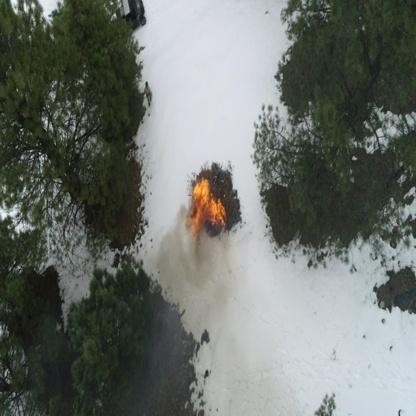Fire: (192, 195, 226, 228), (189, 180, 206, 237)
